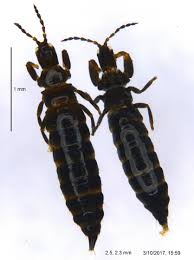Phlaeothripidae: (63, 20, 171, 235), (13, 3, 104, 252)
